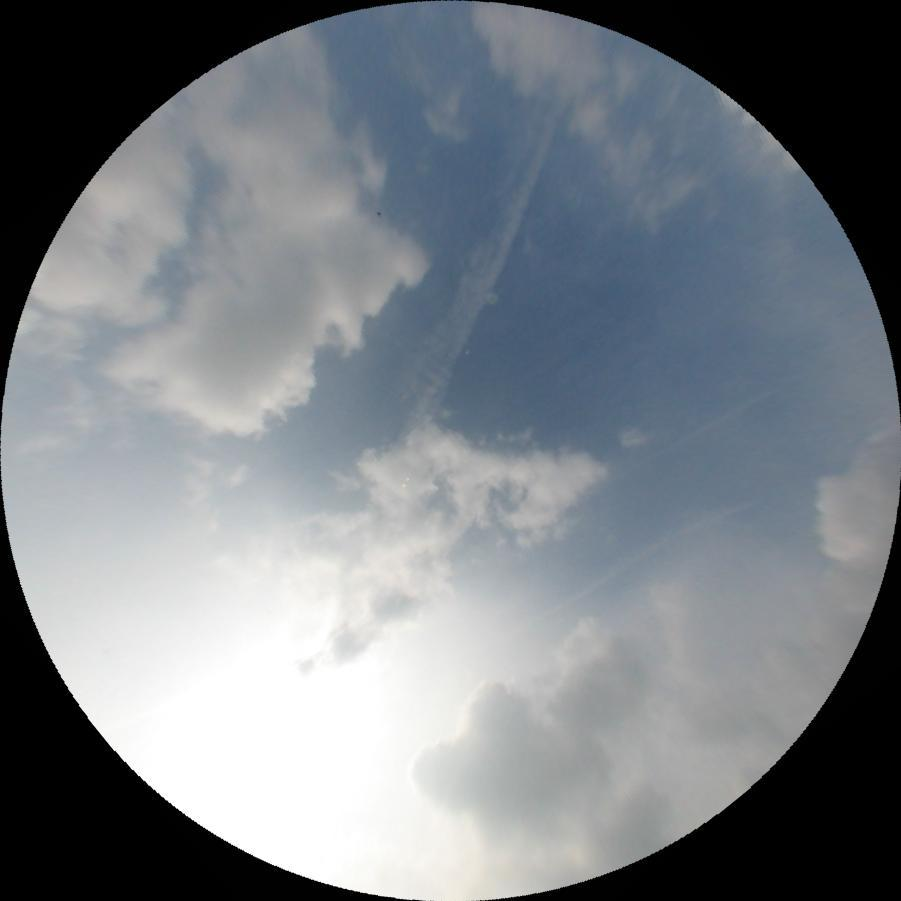contrail veryold: (384, 89, 572, 428), (592, 383, 775, 494)
sun: (99, 574, 487, 901)
unknow: (520, 488, 761, 635)
